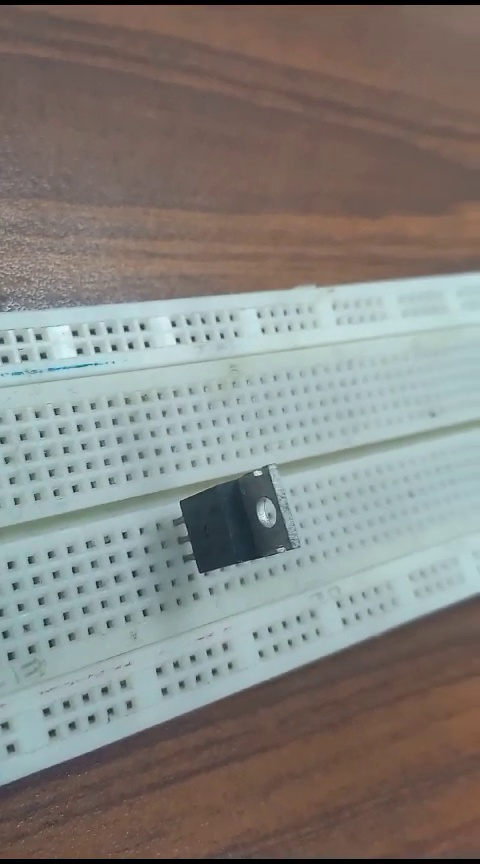voltage regulator: (153, 459, 308, 587)
